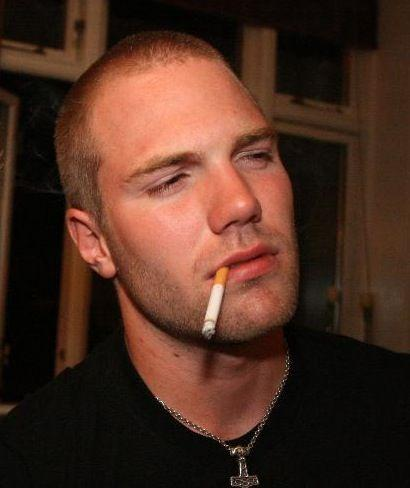cigarette: (201, 266, 230, 340)
